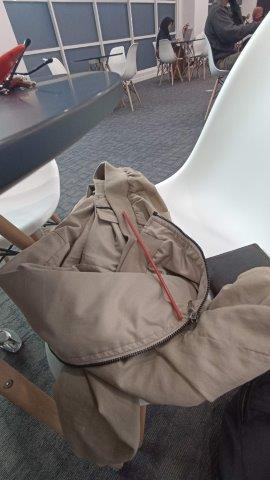sedotan: (123, 211, 184, 320)
